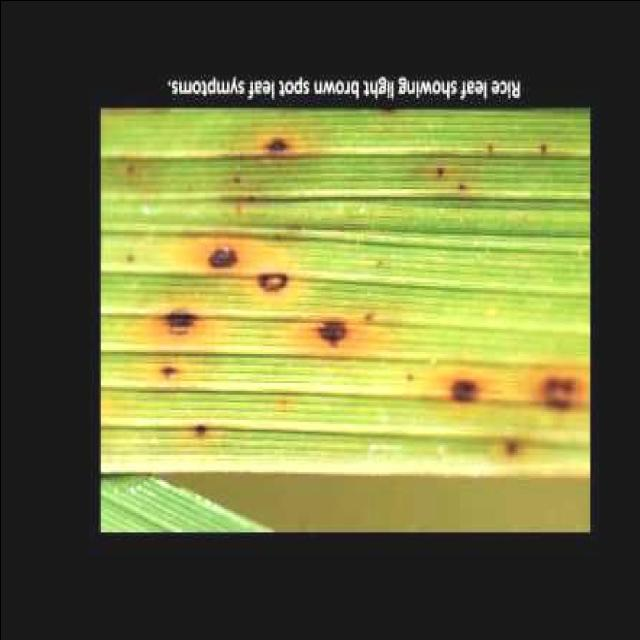Brown_Spot: (298, 302, 369, 380), (518, 360, 590, 434), (428, 360, 498, 430), (238, 130, 306, 170), (196, 242, 253, 286), (152, 299, 196, 351), (246, 266, 294, 306), (182, 412, 218, 456), (491, 436, 530, 464), (155, 359, 185, 392)
